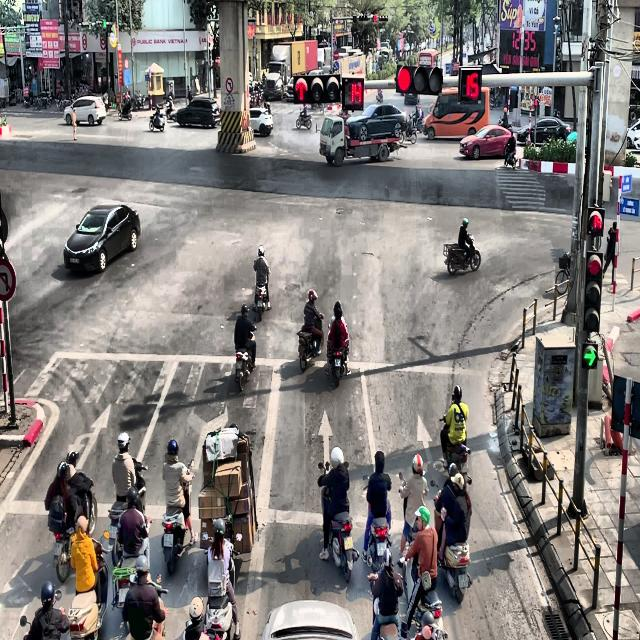BUS: (423, 87, 489, 139)
CAR: (64, 202, 140, 274), (261, 599, 361, 640), (346, 103, 407, 141), (459, 124, 513, 160), (517, 116, 571, 146), (175, 96, 221, 128), (63, 95, 106, 126), (249, 107, 273, 137), (626, 118, 640, 150)
MOTORBIKE: (430, 480, 472, 604), (317, 461, 359, 583), (51, 486, 98, 582), (397, 551, 447, 640), (160, 459, 194, 575), (111, 515, 152, 610), (107, 458, 148, 551), (204, 540, 236, 640), (362, 473, 392, 572), (439, 416, 472, 485), (296, 314, 324, 372), (443, 235, 481, 275), (234, 327, 256, 392), (325, 322, 349, 380), (253, 269, 271, 321), (555, 250, 571, 294), (149, 104, 166, 132), (504, 142, 517, 169), (296, 109, 312, 129), (164, 96, 177, 120), (118, 100, 132, 120)
TRAFFIC_LIGHT: (583, 250, 603, 333), (396, 64, 443, 96), (458, 66, 482, 102), (342, 76, 364, 110), (586, 206, 604, 236), (582, 342, 598, 370), (373, 14, 388, 22), (102, 19, 107, 28)
